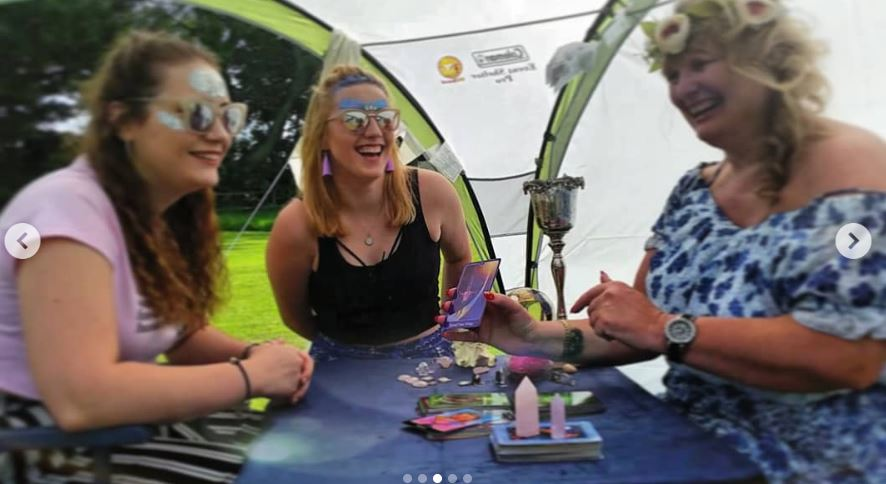Bad: (265, 1, 886, 338), (1, 30, 445, 426)
